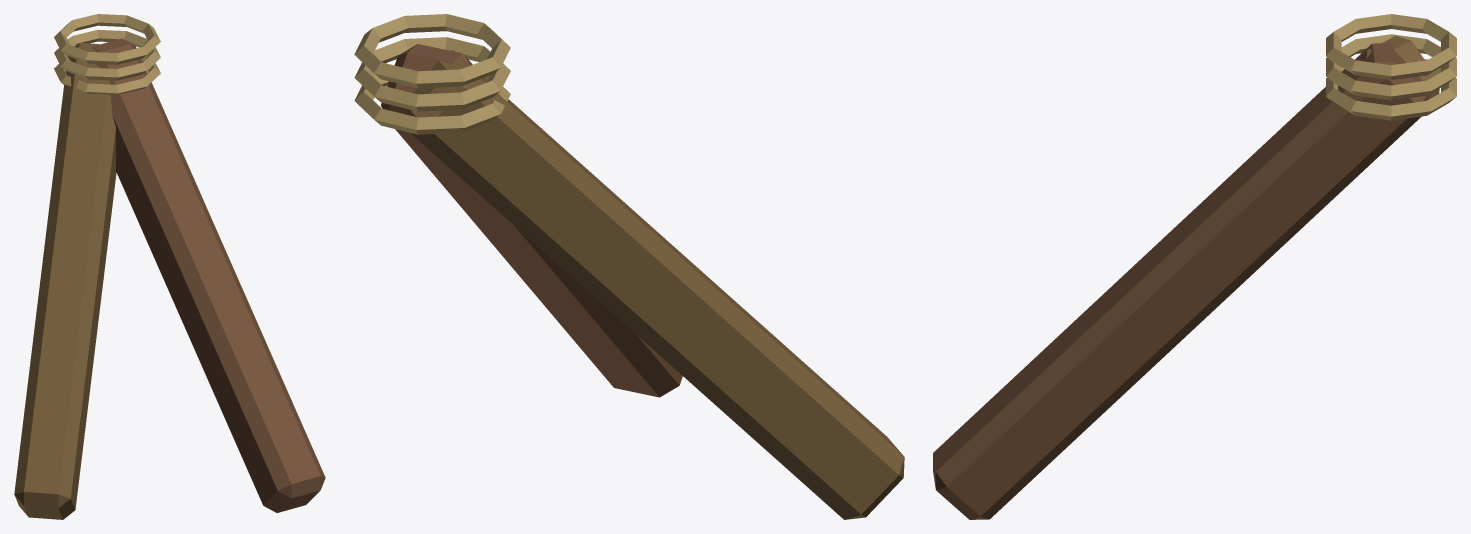
File: rootfall-brace-left.glb
3 renders of one model, left to right at view 1: azimuth 30°, elevation 25°; view 2: azimuth 150°, elevation 25°; view 3: azimuth 270°, elevation 25°, orthographic. The views are drawn at different scales.
Visible parts, largest first — view 1: rootfall-brace-left; view 2: rootfall-brace-left; view 3: rootfall-brace-left.
Part boxes in pixels (bbox=[...]): rootfall-brace-left: bbox=[14, 14, 325, 519]; rootfall-brace-left: bbox=[354, 14, 904, 519]; rootfall-brace-left: bbox=[933, 14, 1456, 519].
Bounding box in the file's own units: 1.17 × 1.59 × 1.64.
1 material, 1 textured.
